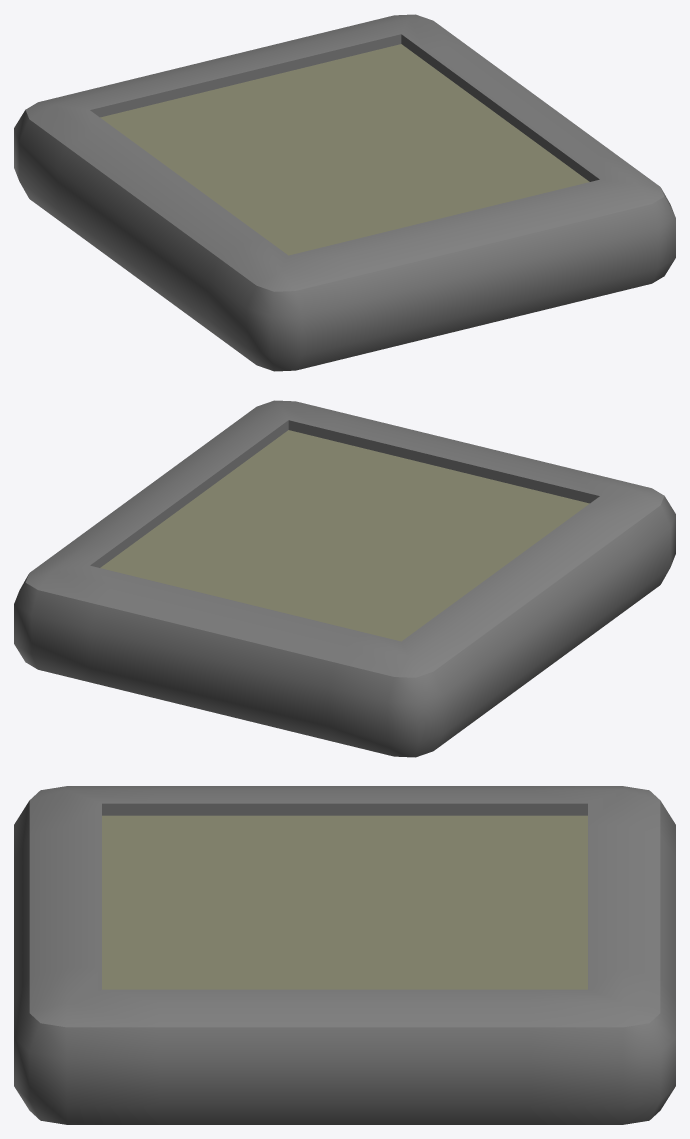
3 renders of one model, top to bottom at view 1: azimuth 30°, elevation 25°; view 2: azimuth 150°, elevation 25°; view 3: azimuth 270°, elevation 25°, orthographic. The views are drawn at different scales.
Visible parts, largest first — view 1: 立方体_28; view 2: 立方体_28; view 3: 立方体_28.
Part boxes in pixels (x1=…): 立方体_28: x1=14, y1=14, x2=675, y2=371; 立方体_28: x1=14, y1=400, x2=675, y2=757; 立方体_28: x1=14, y1=786, x2=675, y2=1124.
Bounding box in the file's own units: 158 × 34.23 × 174.
